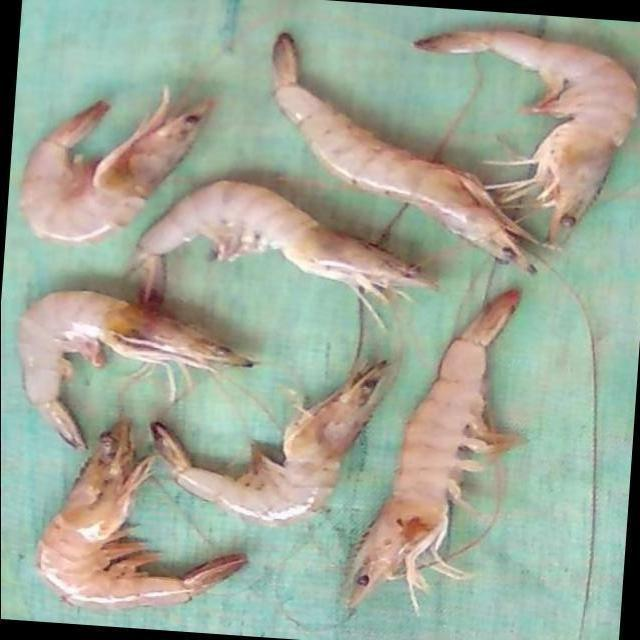shrimp: (273, 31, 535, 272), (350, 288, 523, 610), (414, 28, 639, 240), (35, 420, 246, 610), (150, 361, 388, 526), (17, 290, 252, 449), (135, 180, 437, 299), (20, 86, 212, 242)
